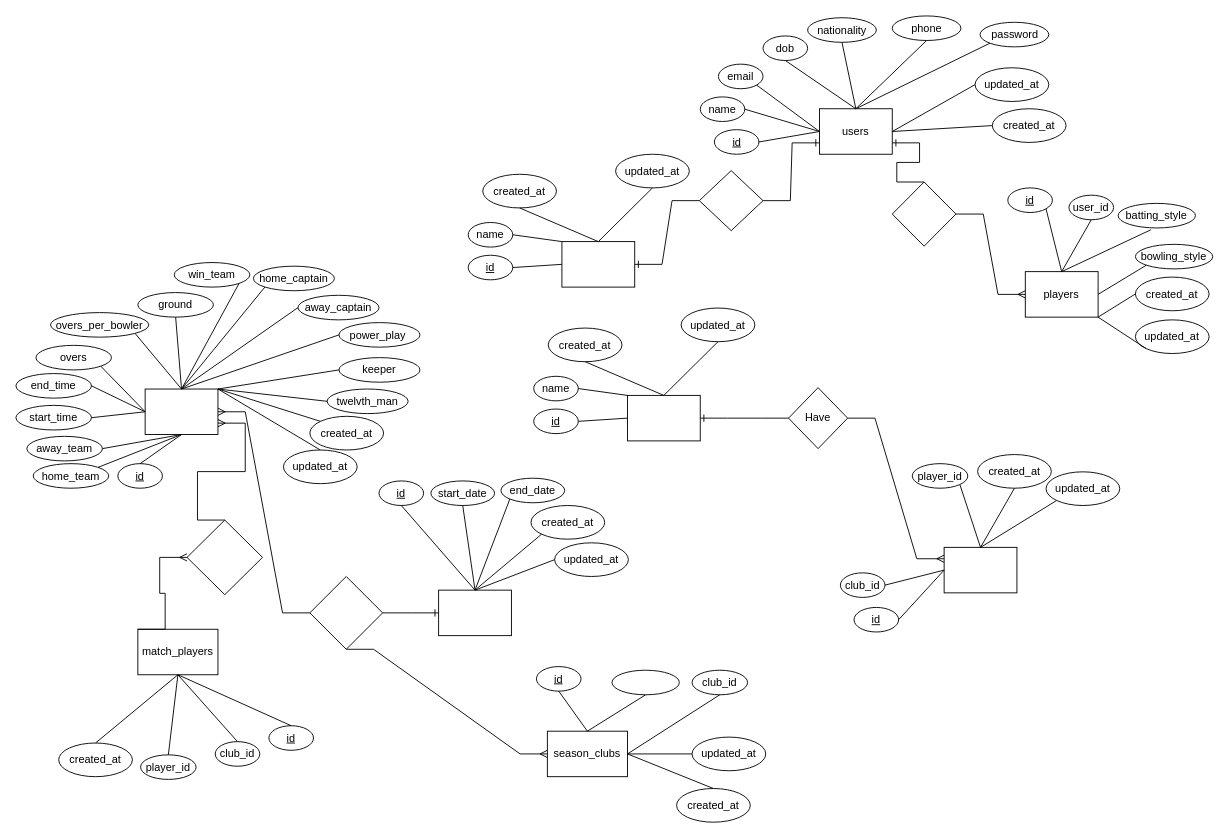
This 1229x838 diagram has some shape labels left out. The centre of each missing label's shape, as x and y in pixels:
"Assigned" belongs at point (730, 200).
"club_players" belongs at point (980, 569).
"clubs" belongs at point (663, 417).
"Consists of" belongs at point (923, 213).
"Has" belongs at point (346, 612).
"matches" belongs at point (181, 411).
"roles" belongs at point (598, 264).
"season_id" belongs at point (645, 682).
"seasons" belongs at point (474, 612).
"Starting Eleven" belongs at point (224, 557).
